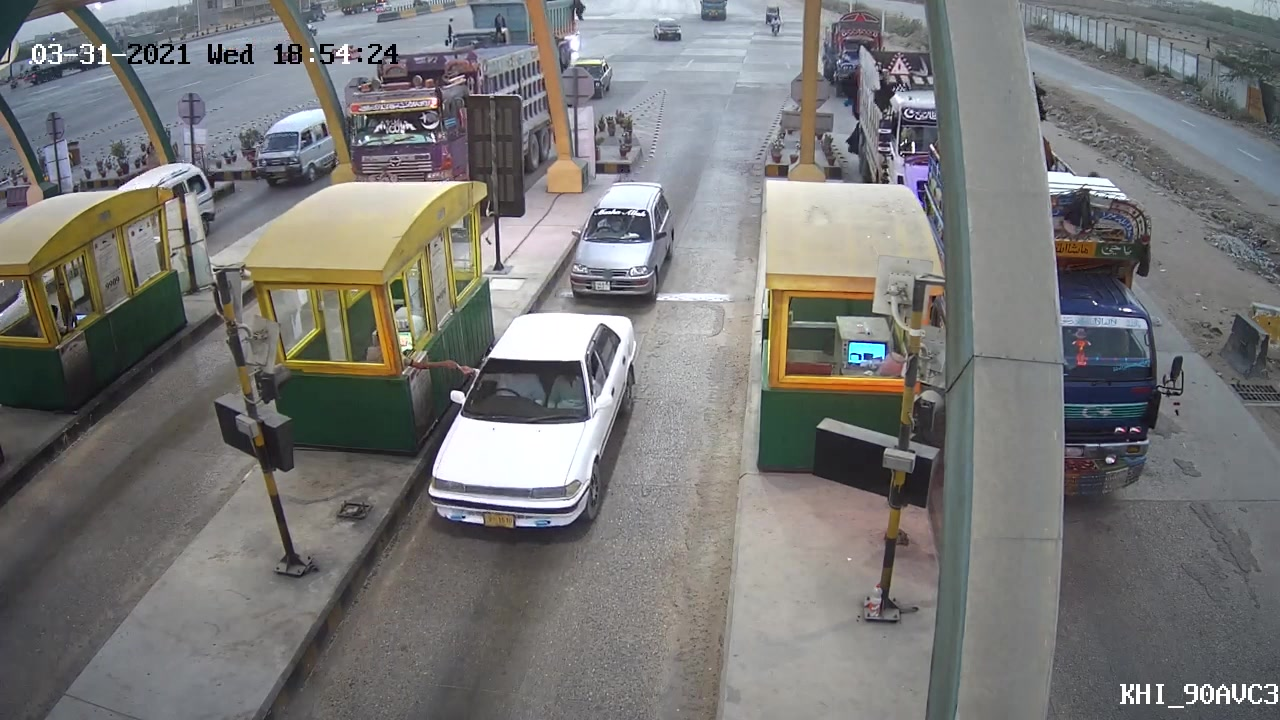F1: (427, 307, 637, 528), (562, 174, 684, 300)
